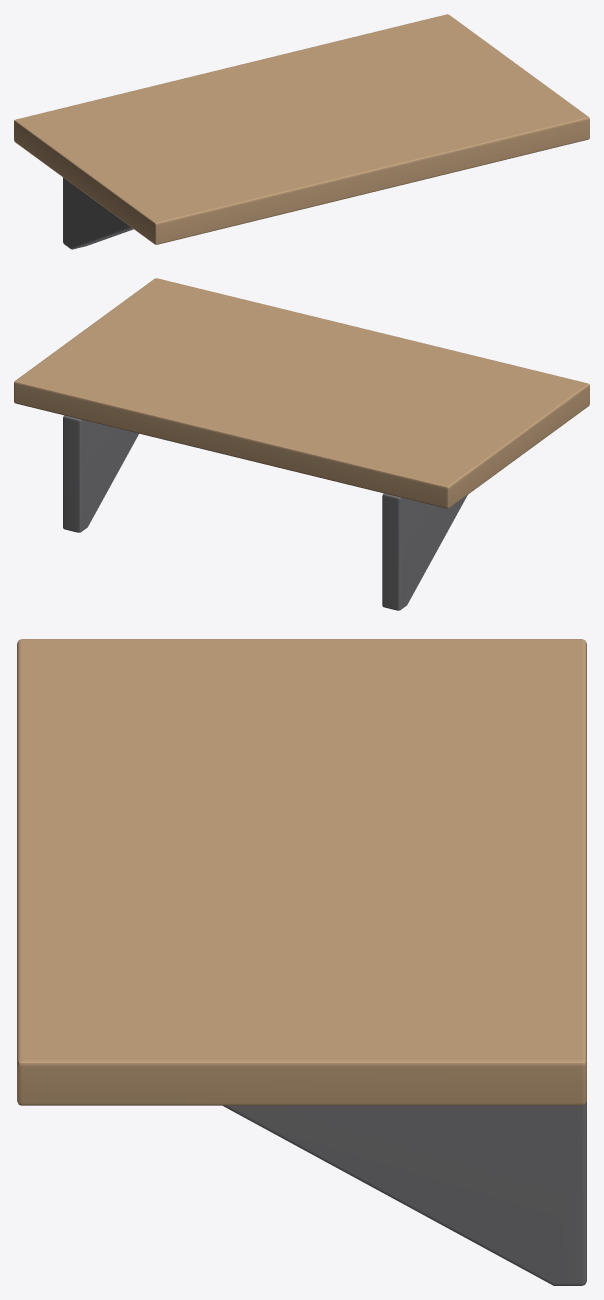
File: industrial.workshop.radio_shelf.glb
3 renders of one model, top to bottom at view 1: azimuth 30°, elevation 25°; view 2: azimuth 150°, elevation 25°; view 3: azimuth 270°, elevation 25°, orthographic. The views are drawn at different scales.
Parts seen in each view (by area): view 1: main__timber_ca7, main__galv_777; view 2: main__timber_ca7, main__galv_777; view 3: main__timber_ca7, main__galv_777.
Boxes of the visible parts, x1=… form: main__timber_ca7: x1=14, y1=14, x2=589, y2=244; main__galv_777: x1=63, y1=177, x2=133, y2=249; main__timber_ca7: x1=14, y1=278, x2=589, y2=508; main__galv_777: x1=63, y1=415, x2=467, y2=610; main__timber_ca7: x1=17, y1=639, x2=586, y2=1105; main__galv_777: x1=223, y1=1101, x2=586, y2=1285.
Size of the model in its own units: 0.6 by 0.18 by 0.34.
